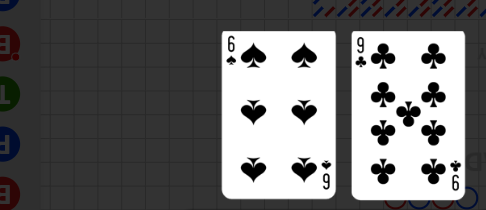6S: (226, 34, 238, 67)
9C: (448, 157, 462, 192)
